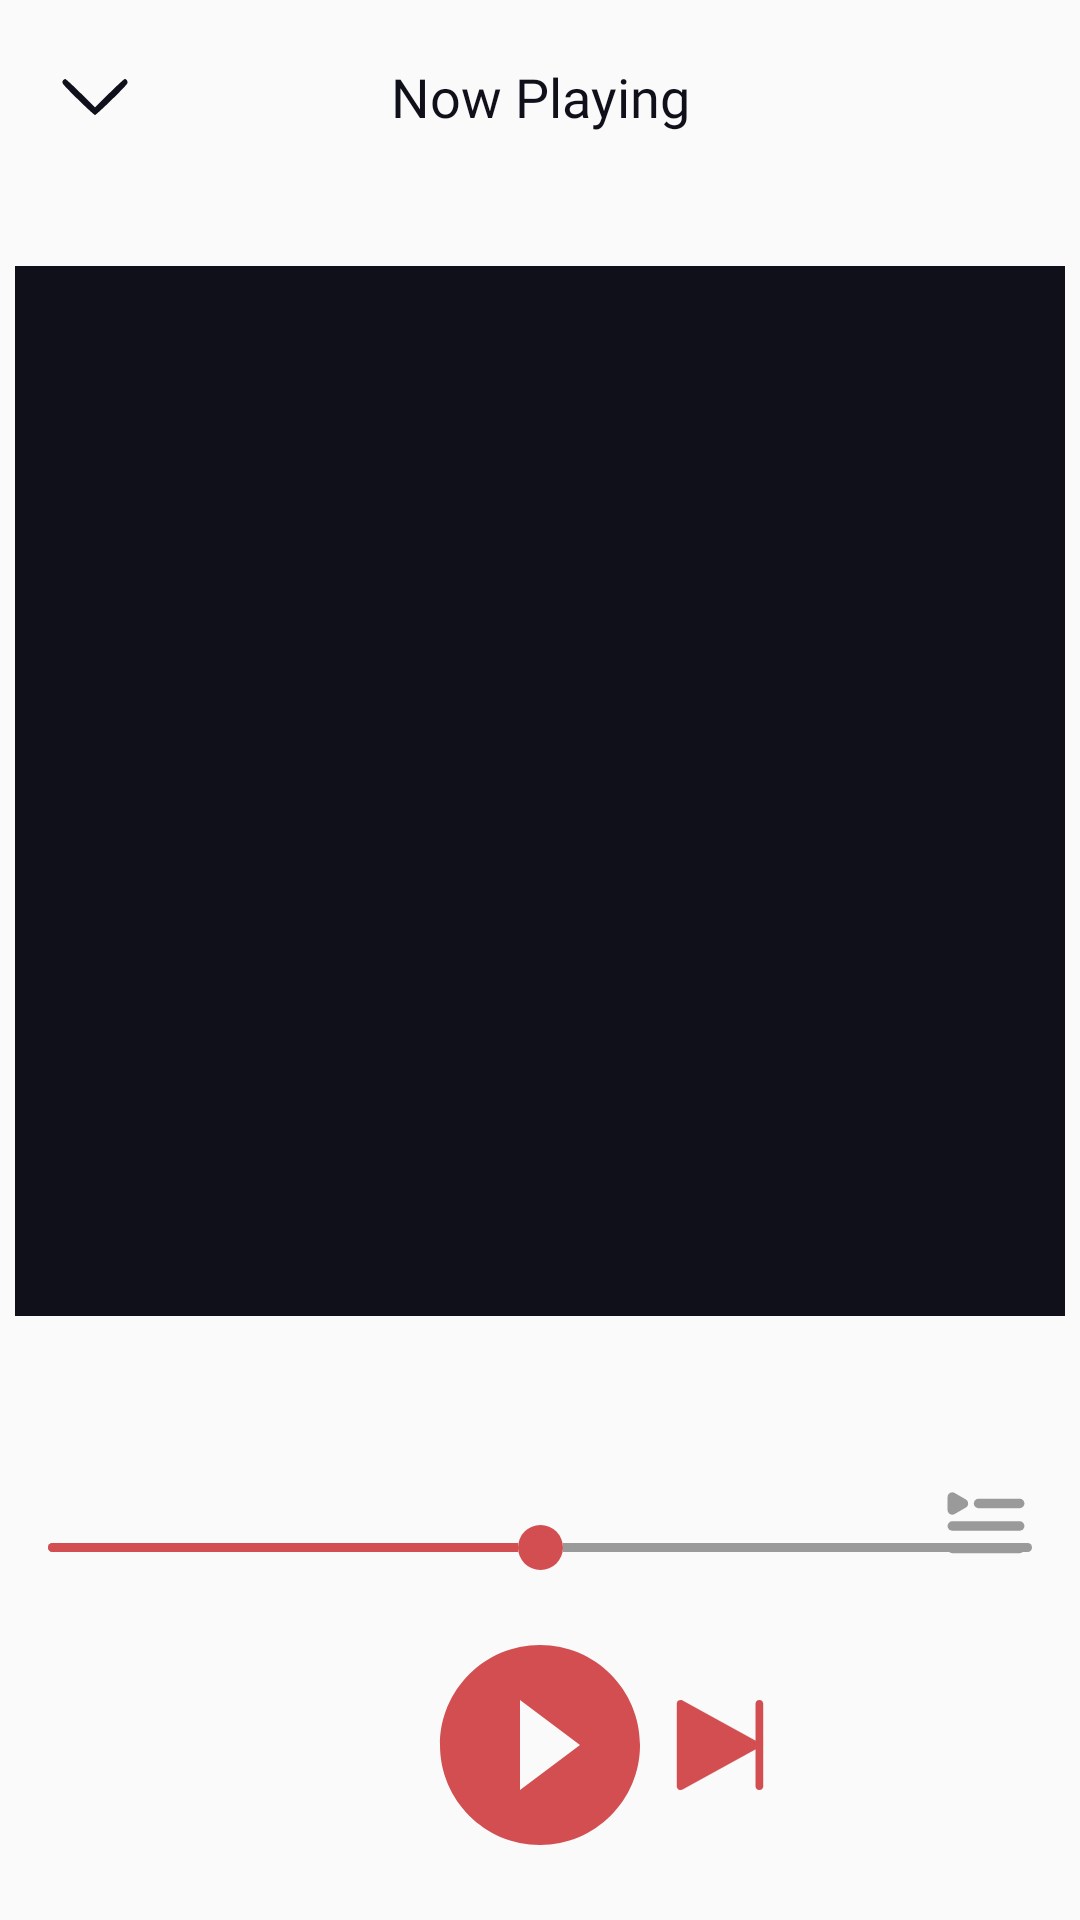

Named icons in this screenshot (1080 x 1920) and their bounding boxes, [x1=x1, y1=y1, x2=x2, y2=y2]:
down arrow: [x1=62, y1=79, x2=128, y2=115]
next: [x1=676, y1=1700, x2=764, y2=1790]
play circle lg: [x1=440, y1=1645, x2=640, y2=1845]
playlist: [x1=947, y1=1492, x2=1025, y2=1531]
